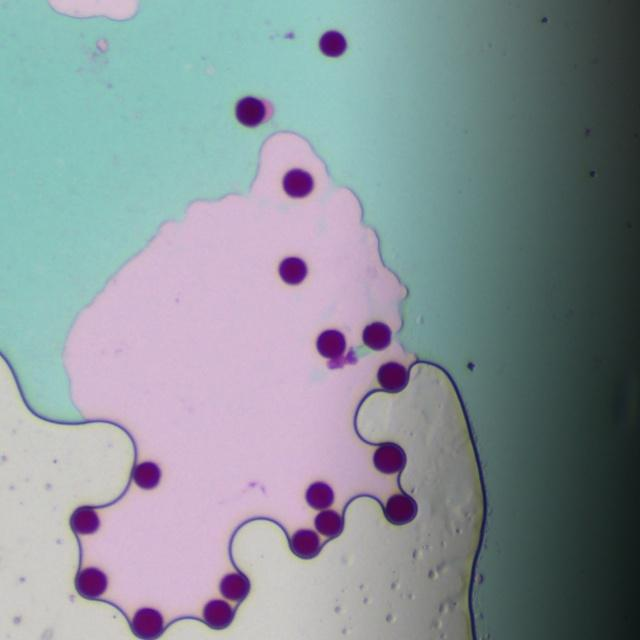viable: (386, 494, 416, 523), (77, 567, 106, 597), (236, 96, 265, 126), (374, 443, 404, 472), (132, 609, 163, 637), (378, 362, 407, 391), (283, 169, 313, 197), (204, 600, 232, 628), (317, 330, 345, 357), (279, 256, 306, 284), (292, 529, 319, 557), (306, 482, 333, 509), (363, 322, 390, 349), (133, 462, 160, 489), (220, 573, 248, 599), (71, 507, 98, 533), (315, 510, 341, 535), (319, 31, 345, 56)
